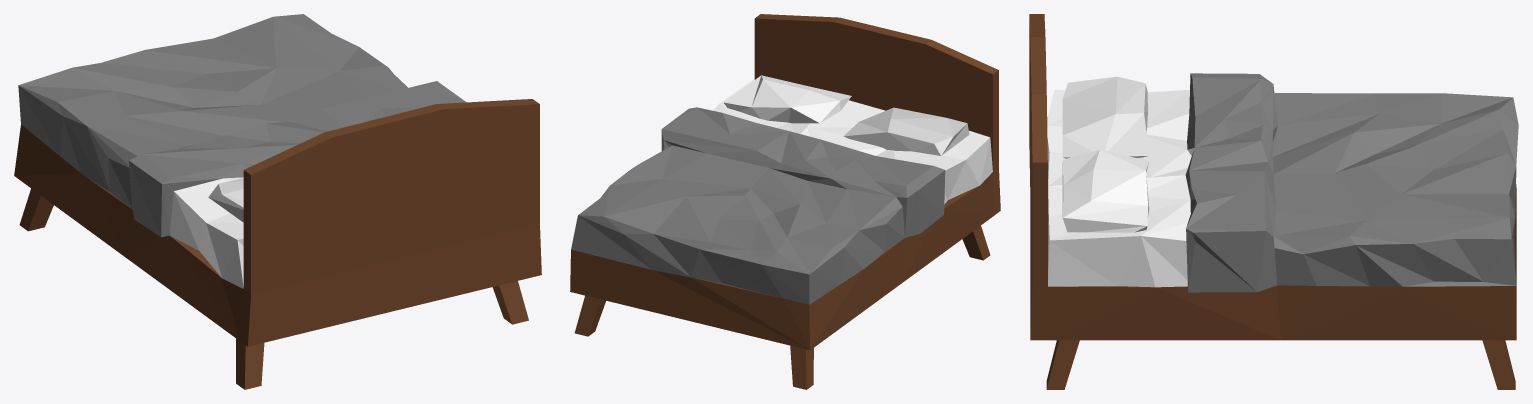
The model's file is Bed.fbx.
3 views of the same model, side by side, from view 1: azimuth 30°, elevation 25°; view 2: azimuth 150°, elevation 25°; view 3: azimuth 270°, elevation 25° (orthographic). The views are drawn at different scales.
Visible parts, largest first — view 1: Cube, Cube.002; view 2: Cube, Cube.001, Cube.002; view 3: Cube, Cube.001, Cube.002.
Part boxes in pixels (left/top/right/bottom): Cube: left=14, top=14, right=541, bottom=389; Cube.002: left=208, top=178, right=243, bottom=222; Cube: left=570, top=14, right=1000, bottom=389; Cube.001: left=723, top=75, right=851, bottom=123; Cube.002: left=843, top=107, right=969, bottom=155; Cube: left=1029, top=14, right=1518, bottom=389; Cube.001: left=1062, top=149, right=1149, bottom=232; Cube.002: left=1062, top=76, right=1149, bottom=158.
Size of the model in its own units: 322 by 233 by 415.
